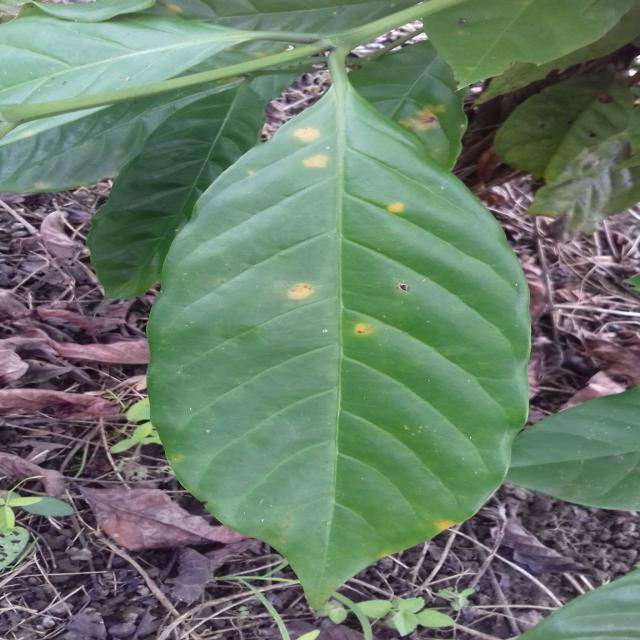Enfermedad-Roya: (146, 83, 529, 616)
